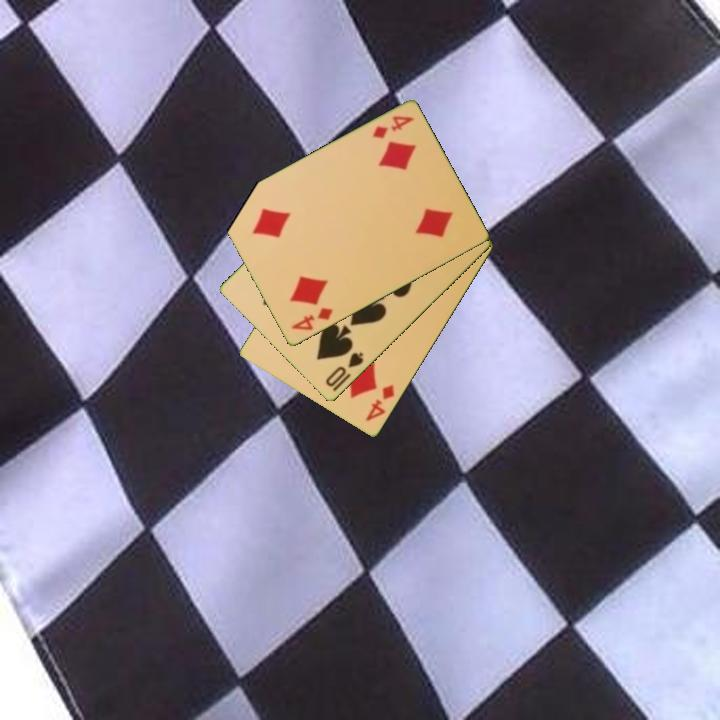10s: (322, 349, 366, 391)
4d: (362, 381, 398, 425), (288, 304, 336, 334), (369, 112, 417, 142)
